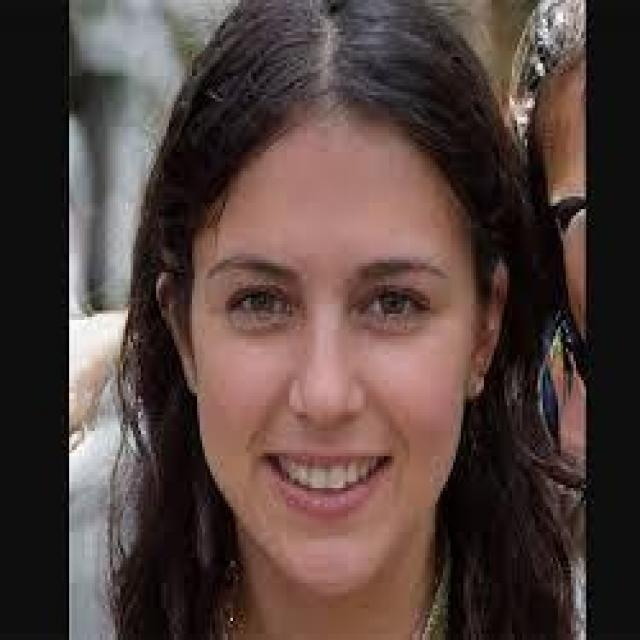person: (118, 0, 563, 637)
